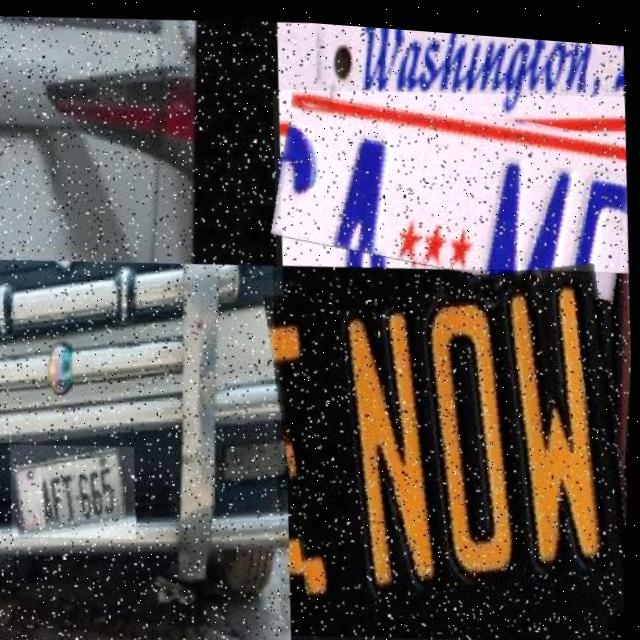LicensePlate: (266, 242, 635, 640), (268, 66, 635, 297), (11, 438, 142, 543), (0, 134, 58, 261)
